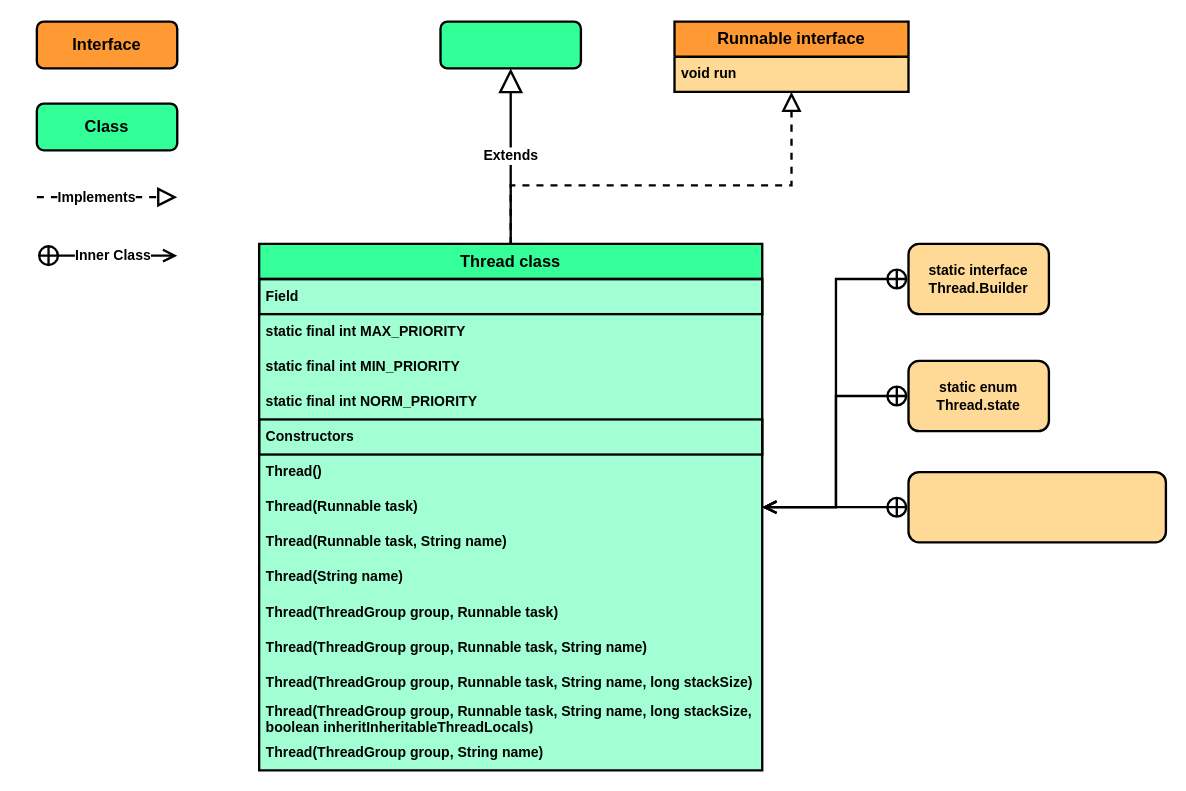
Image size: 1186x791. Some labels were removed from this diagram. Here are the shapes that lost their labels. From the top down, the centre of each, then its label:
At pixel 510 44: "java.lang.Object".
At pixel 1036 506: "static interface Thread.UncaughtExceptionHandler".
